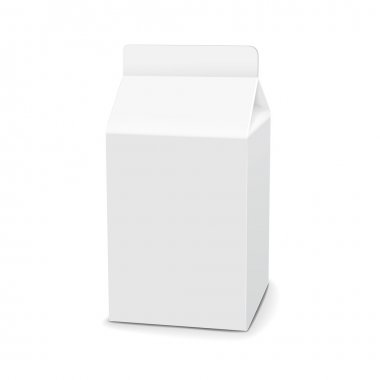carton: (89, 28, 297, 355)
